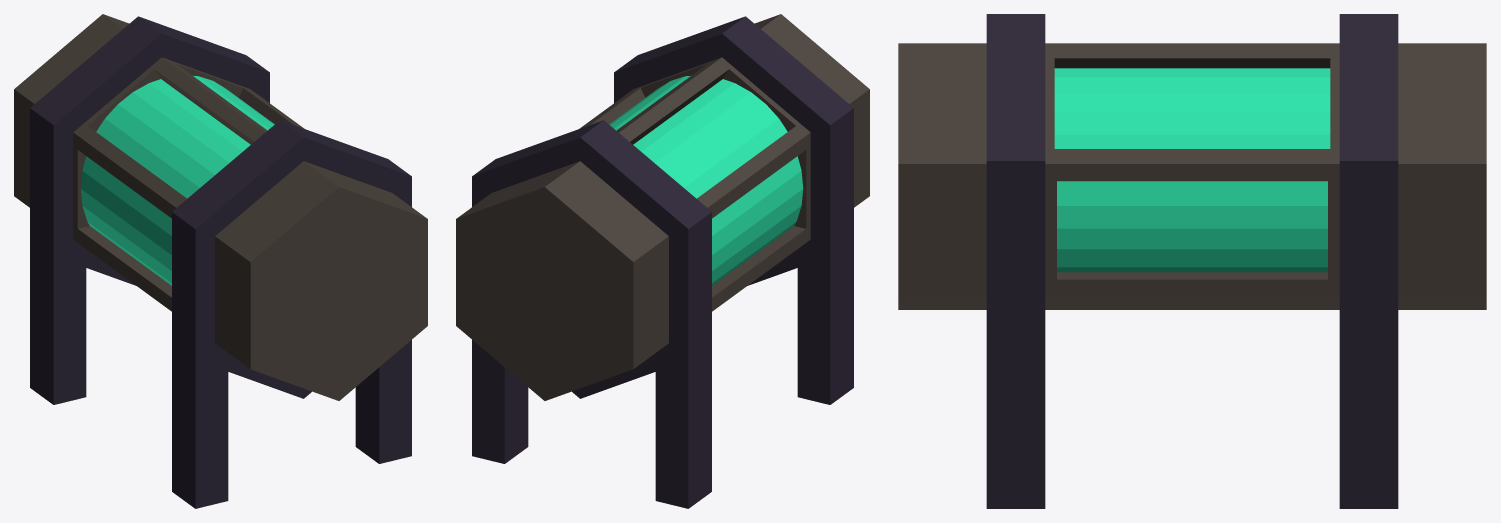
File: Pipe.fbx
3 views of the same model, side by side, from view 1: azimuth 30°, elevation 25°; view 2: azimuth 150°, elevation 25°; view 3: azimuth 270°, elevation 25° (orthographic). The views are drawn at different scales.
Parts seen in each view (by area): view 1: StraightPipe; view 2: StraightPipe; view 3: StraightPipe.
Part boxes in pixels (x1,y1,x2,y2): StraightPipe: (14,14,427,508); StraightPipe: (456,14,869,508); StraightPipe: (898,14,1486,508).
Bounding box in the file's own units: 52.86 × 80.56 × 100.
